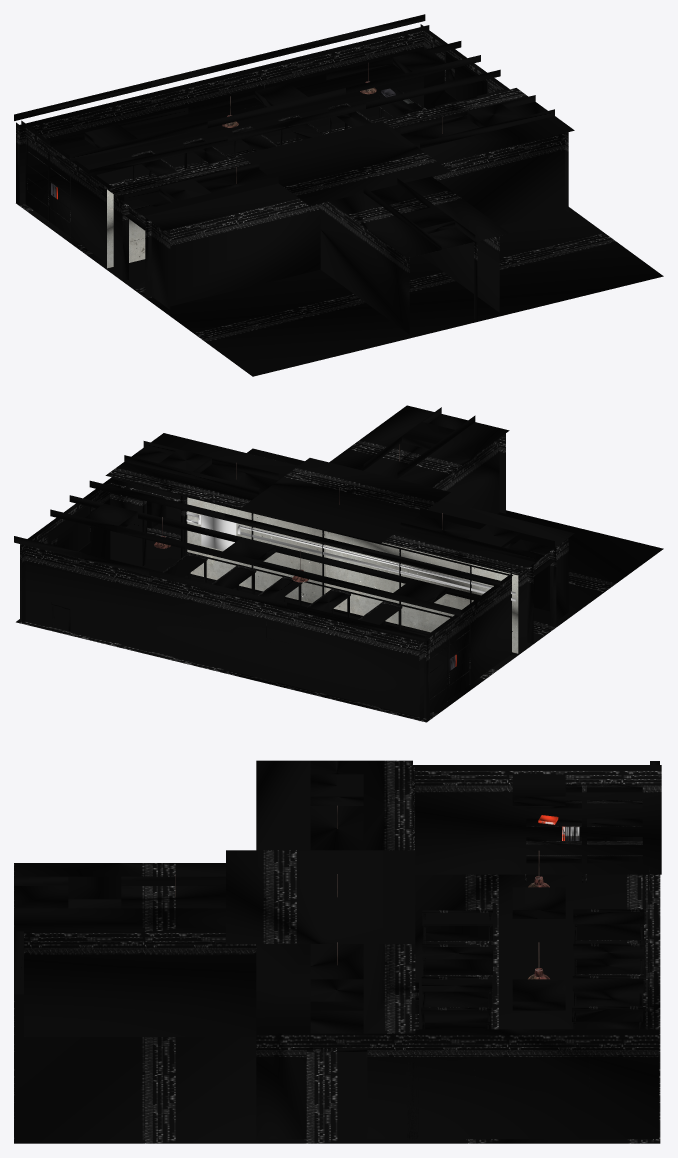
File: room3offices_opt.obj
3 views of the same model, one above another, from view 1: azimuth 30°, elevation 25°; view 2: azimuth 150°, elevation 25°; view 3: azimuth 270°, elevation 25° (orthographic). The views are drawn at different scales.
Bounding box in the file's own units: 102 × 23.24 × 103.
Materials: 15 (15 with a texture image).
